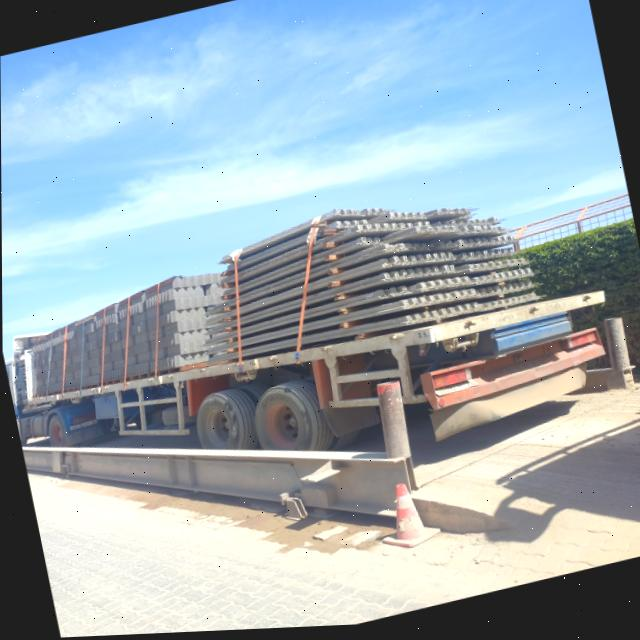bricks: (26, 273, 222, 401)
